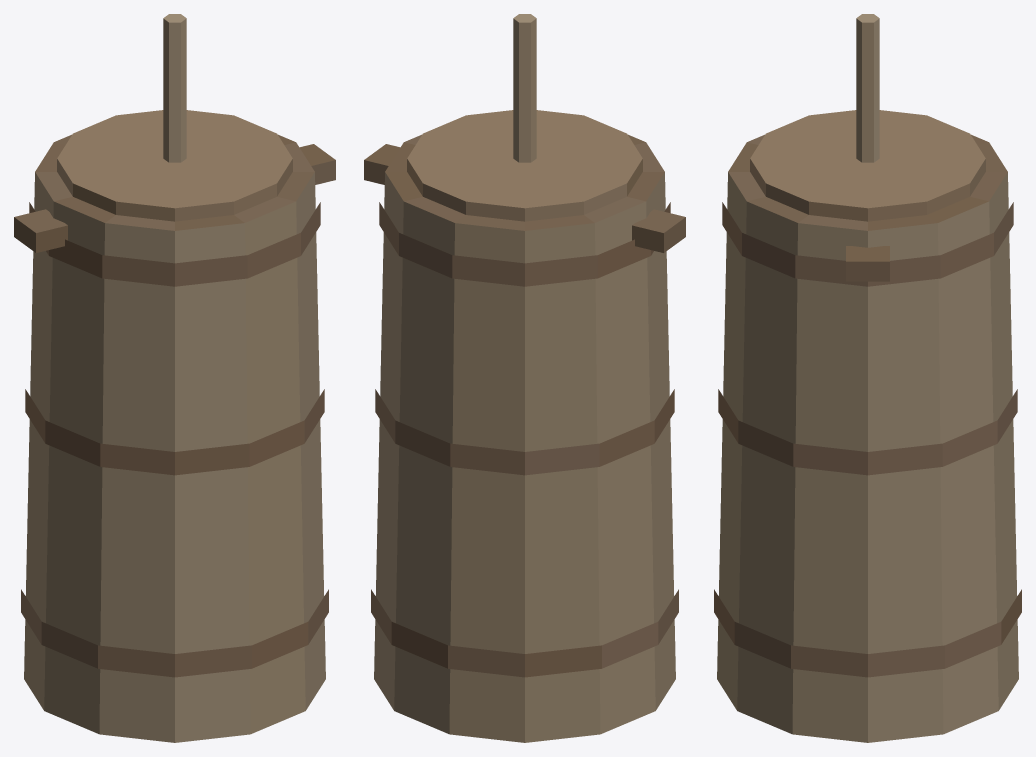
The model's file is holzbottich_hoch.glb.
3 views of the same model, side by side, from view 1: azimuth 30°, elevation 25°; view 2: azimuth 150°, elevation 25°; view 3: azimuth 270°, elevation 25° (orthographic).
Visible parts, largest first — view 1: bottich; view 2: bottich; view 3: bottich.
Boxes of the visible parts, bbox=[...] form: bottich: bbox=[14, 14, 335, 742]; bottich: bbox=[364, 14, 685, 742]; bottich: bbox=[714, 14, 1021, 742].
Bounding box in the file's own units: 0.47 × 0.99 × 0.4181.
